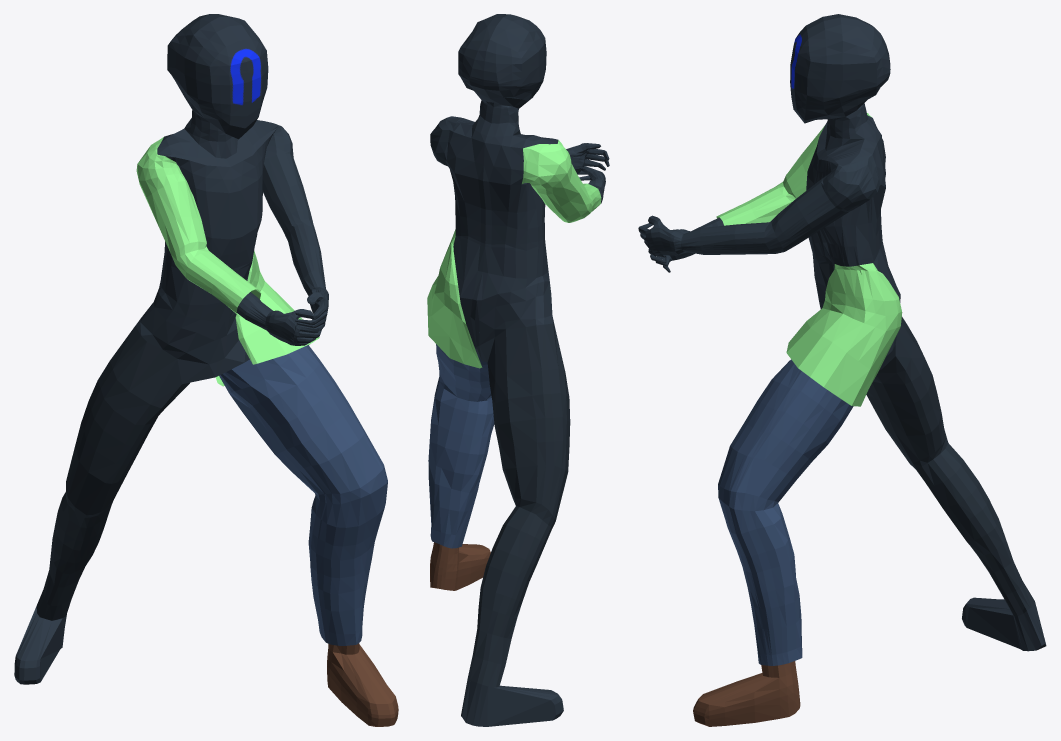
Rendered from Mar_WL_000014.obj.
3 views of the same model, side by side, from view 1: azimuth 30°, elevation 25°; view 2: azimuth 150°, elevation 25°; view 3: azimuth 270°, elevation 25° (orthographic). The views are drawn at different scales.
Parts seen in each view (by area): view 1: Cube.000_Cube.001; view 2: Cube.000_Cube.001; view 3: Cube.000_Cube.001.
Boxes of the visible parts, x1,y1,x2,y2 form: Cube.000_Cube.001: (14, 14, 398, 726); Cube.000_Cube.001: (427, 14, 609, 726); Cube.000_Cube.001: (638, 14, 1046, 726).
Bounding box in the file's own units: 1.41 × 3.72 × 2.07.
